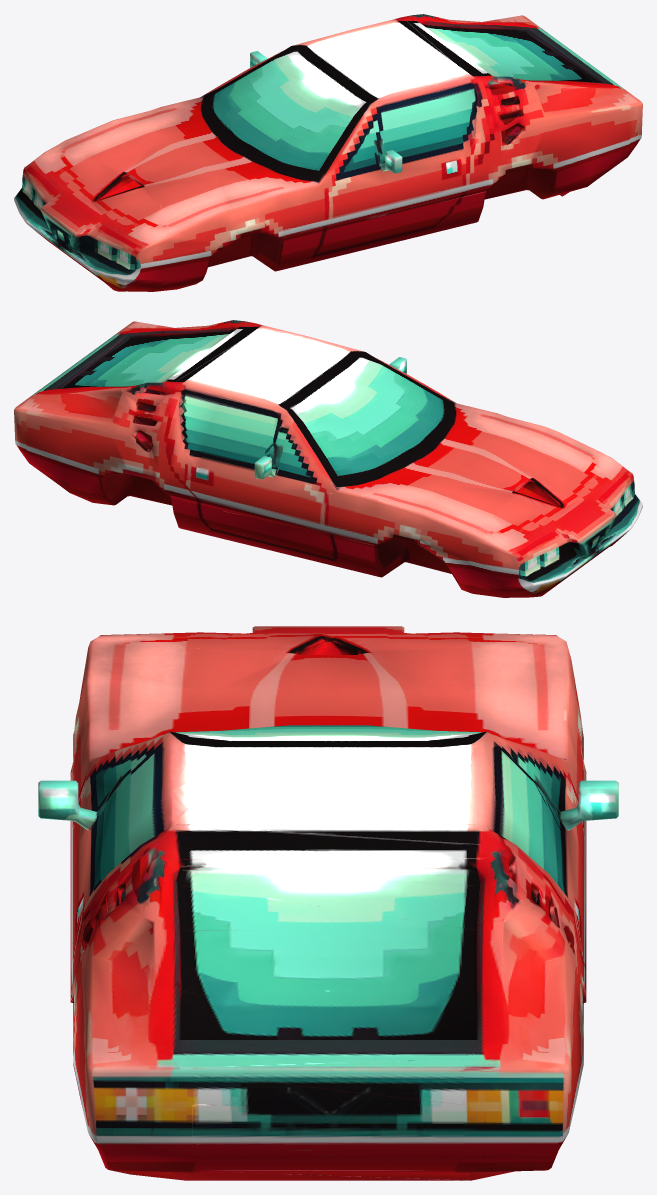
Rendered from Meshy_AI_Desert_Pixel_Racer_0429183103_texture.fbx.
3 renders of one model, top to bottom at view 1: azimuth 30°, elevation 25°; view 2: azimuth 150°, elevation 25°; view 3: azimuth 270°, elevation 25°, orthographic. The views are drawn at different scales.
Visible parts, largest first — view 1: Mesh_0; view 2: Mesh_0; view 3: Mesh_0.
Boxes of the visible parts, x1=… form: Mesh_0: x1=14, y1=14, x2=642, y2=291; Mesh_0: x1=14, y1=320, x2=642, y2=597; Mesh_0: x1=38, y1=626, x2=618, y2=1180.
Bounding box in the file's own units: 191 × 46.58 × 91.19.
1 material, 1 textured.
